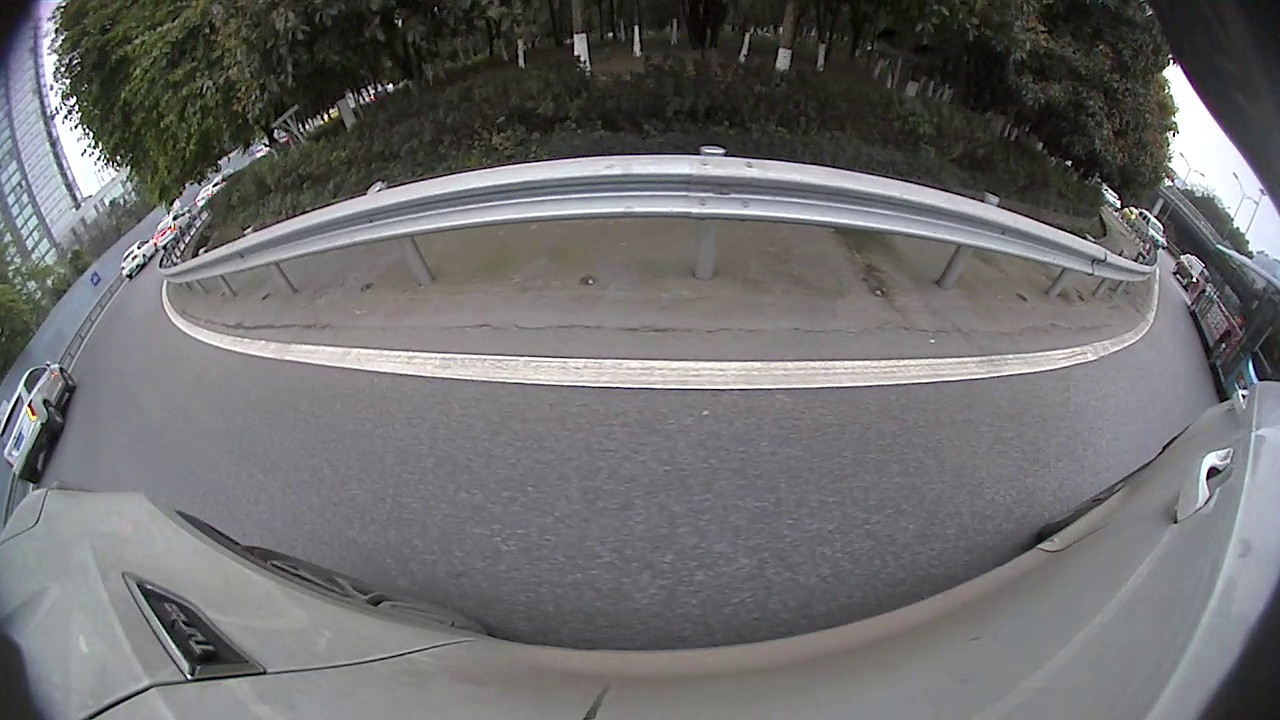bus: (1187, 238, 1279, 407)
car: (1, 359, 81, 486), (148, 203, 197, 252), (1131, 205, 1169, 257), (116, 239, 156, 284), (1169, 248, 1207, 286)
front: (1205, 336, 1232, 366), (59, 369, 79, 391)
rear: (45, 404, 69, 429)
